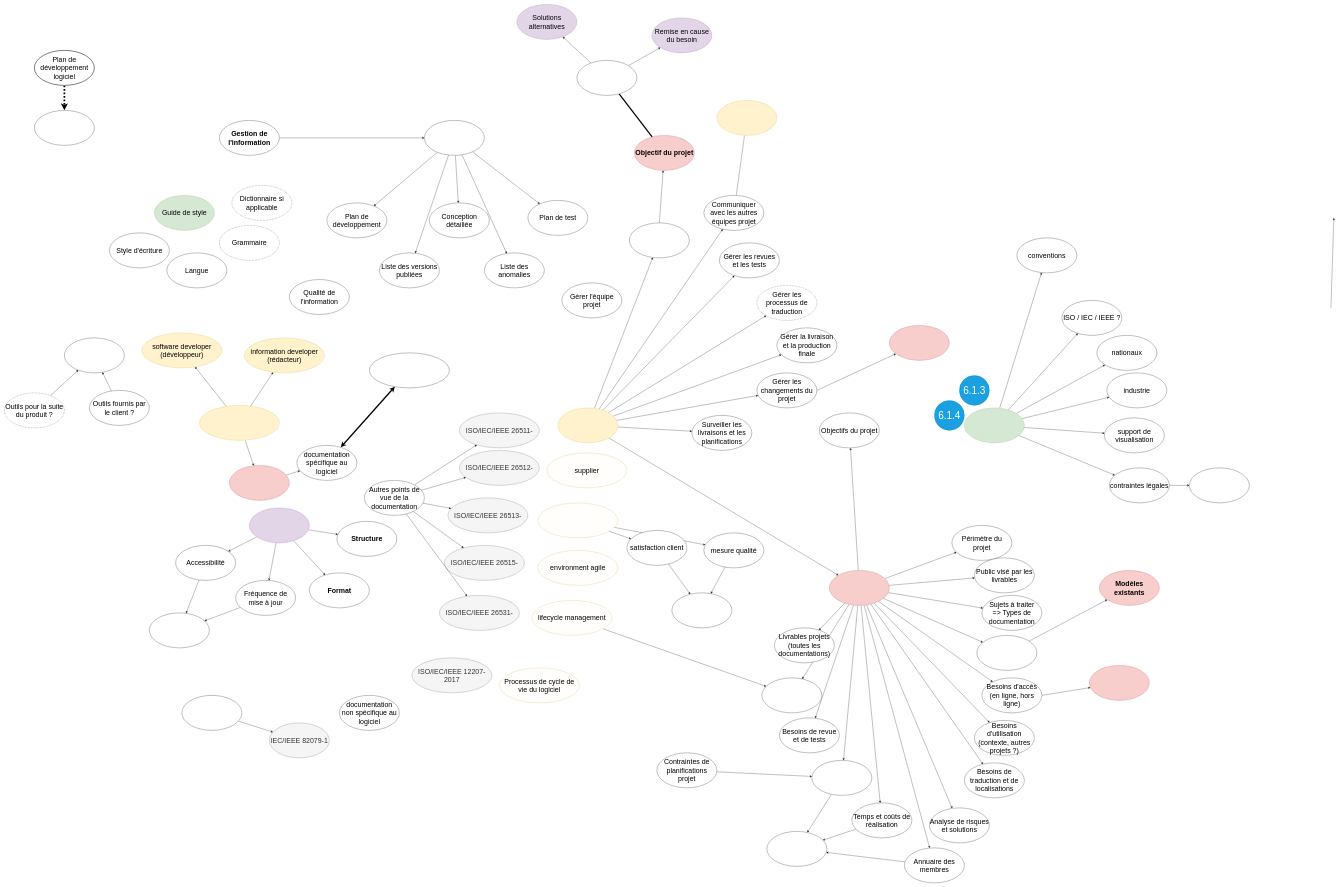
Some shapes in this 1340 by 887 pixel diagram are drawn without their labels. Each missing label, with the centre of its shape:
Architecture et développement: (x=94, y=355)
Besoins irréalisables: (x=607, y=77)
CMS: (x=179, y=630)
developer: (x=239, y=422)
définir critères d'atteintes objectifs: (x=702, y=610)
Gantt: (x=797, y=848)
Information: (x=279, y=525)
information for users of software: (x=409, y=370)
ISO/IEC/IEEE 26514-2022: (x=259, y=482)
Maintenir la qualité et la vision projet: (x=659, y=240)
Mettre à jour les documentations: (x=919, y=342)
Outils nécessaires (CMS, Wiki): (x=792, y=695)
Plan de documentation: (x=64, y=127)
Plan du projet de documentation et tâches: (x=859, y=587)
Planification et jalons: (x=842, y=777)
Politique existante de gestion de contenu: (x=1119, y=682)
préparation de l'information: (x=212, y=712)
Responsable Projet Documentation: (x=588, y=425)
Responsable Projet Développement: (x=747, y=117)
RGPD: (x=1219, y=485)
Source de l'information: (x=454, y=137)
Standards/Contraintes existants applicables: (x=994, y=425)
Stratégie de réutilisation: (x=1007, y=652)
tester: (x=578, y=520)
